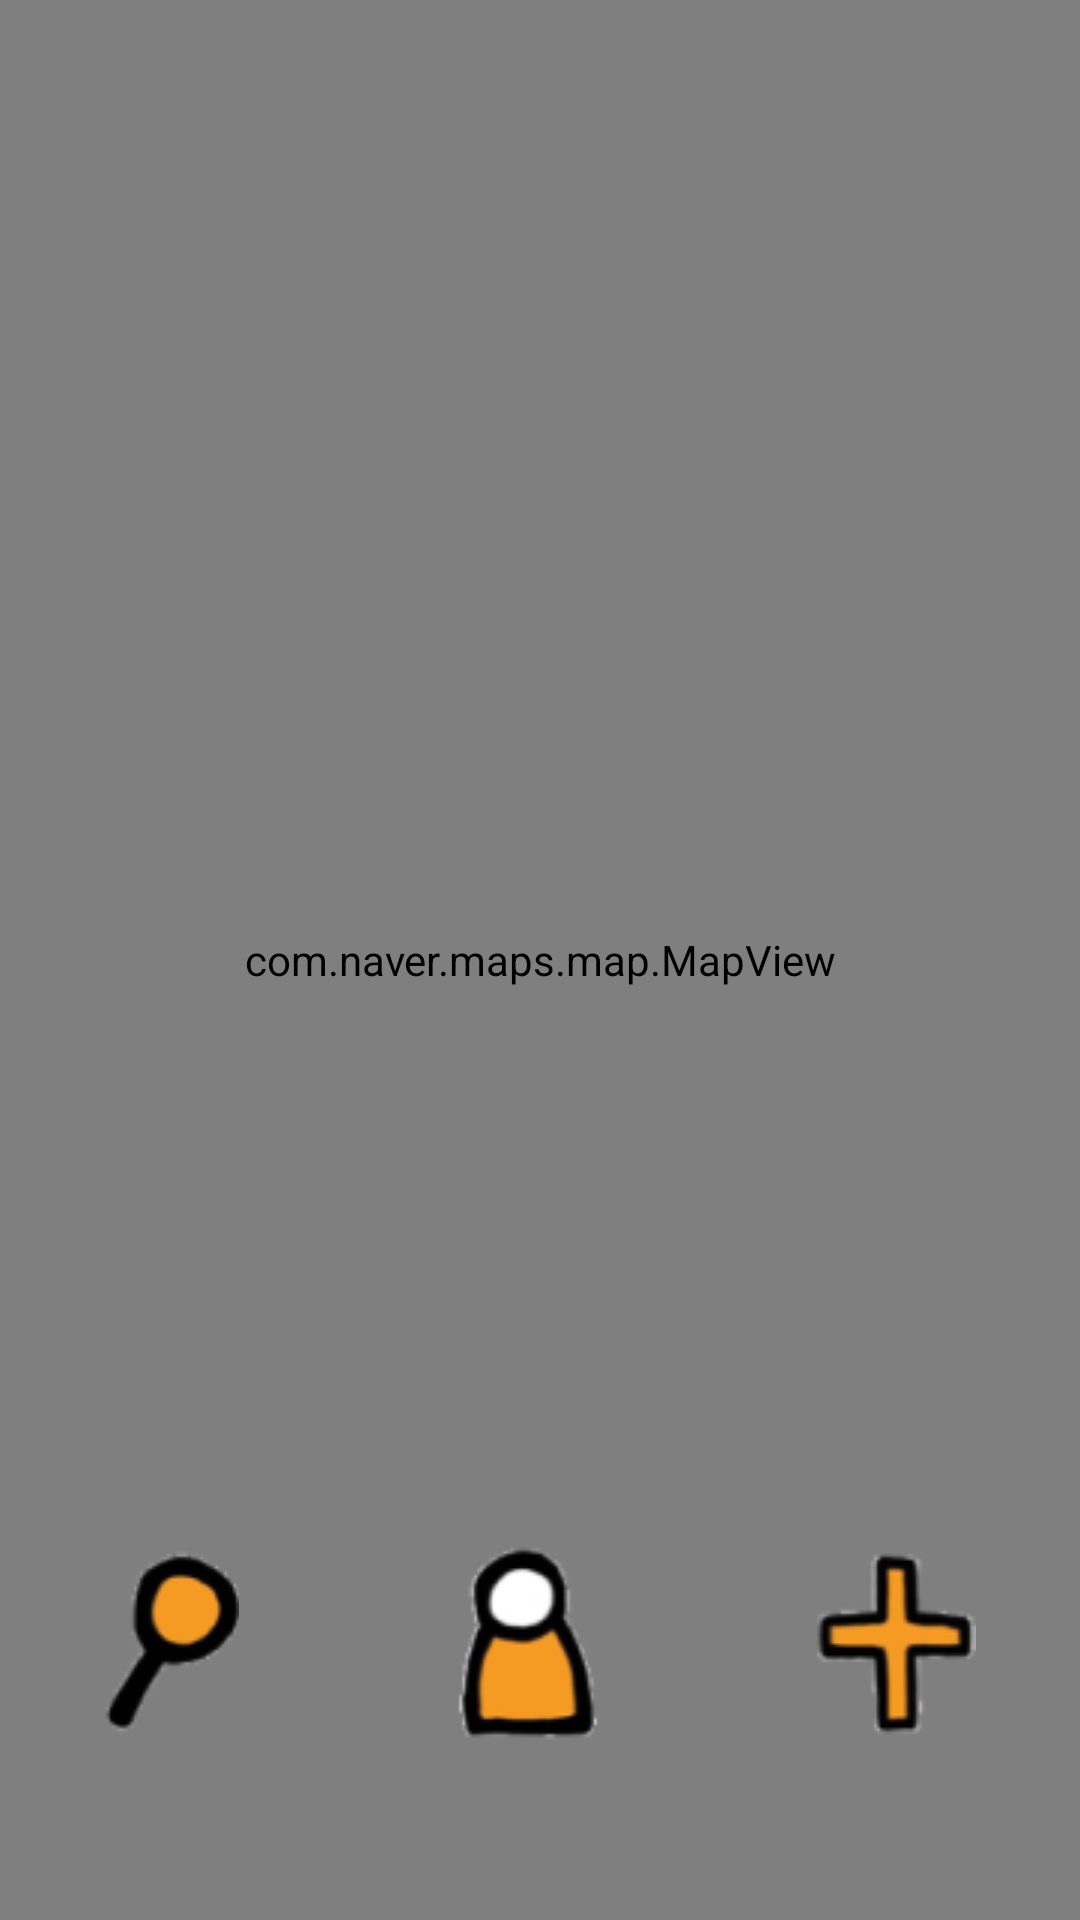

Where icons sit on this 1080 x 1920 app screen, as (x1, y1, x2, y2):
plus: (817, 1555, 976, 1732)
profile: (459, 1550, 597, 1736)
search: (107, 1556, 239, 1728)
